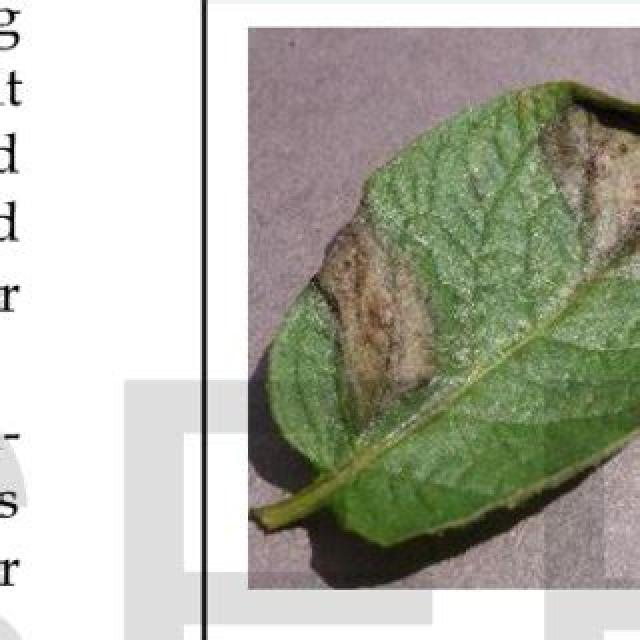blight: (308, 205, 447, 444), (532, 93, 640, 297)
